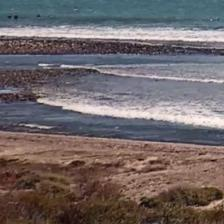surfer: (13, 14, 18, 20), (36, 14, 42, 19), (6, 16, 11, 20)
